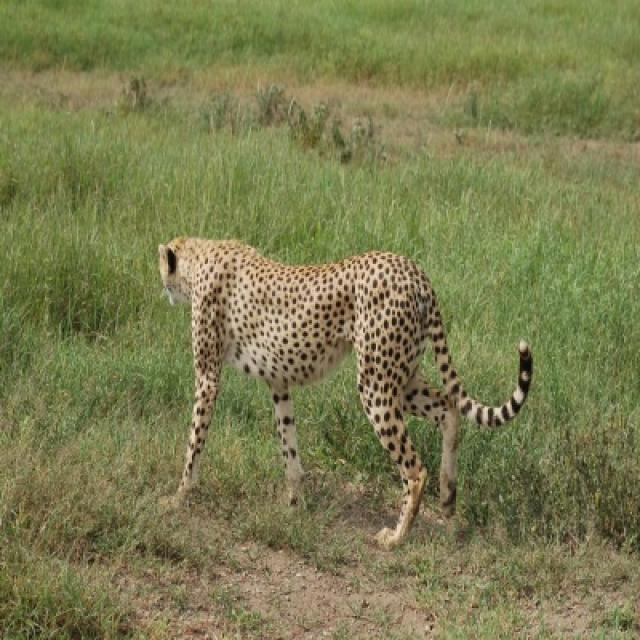Cheetah: (158, 238, 531, 546)
